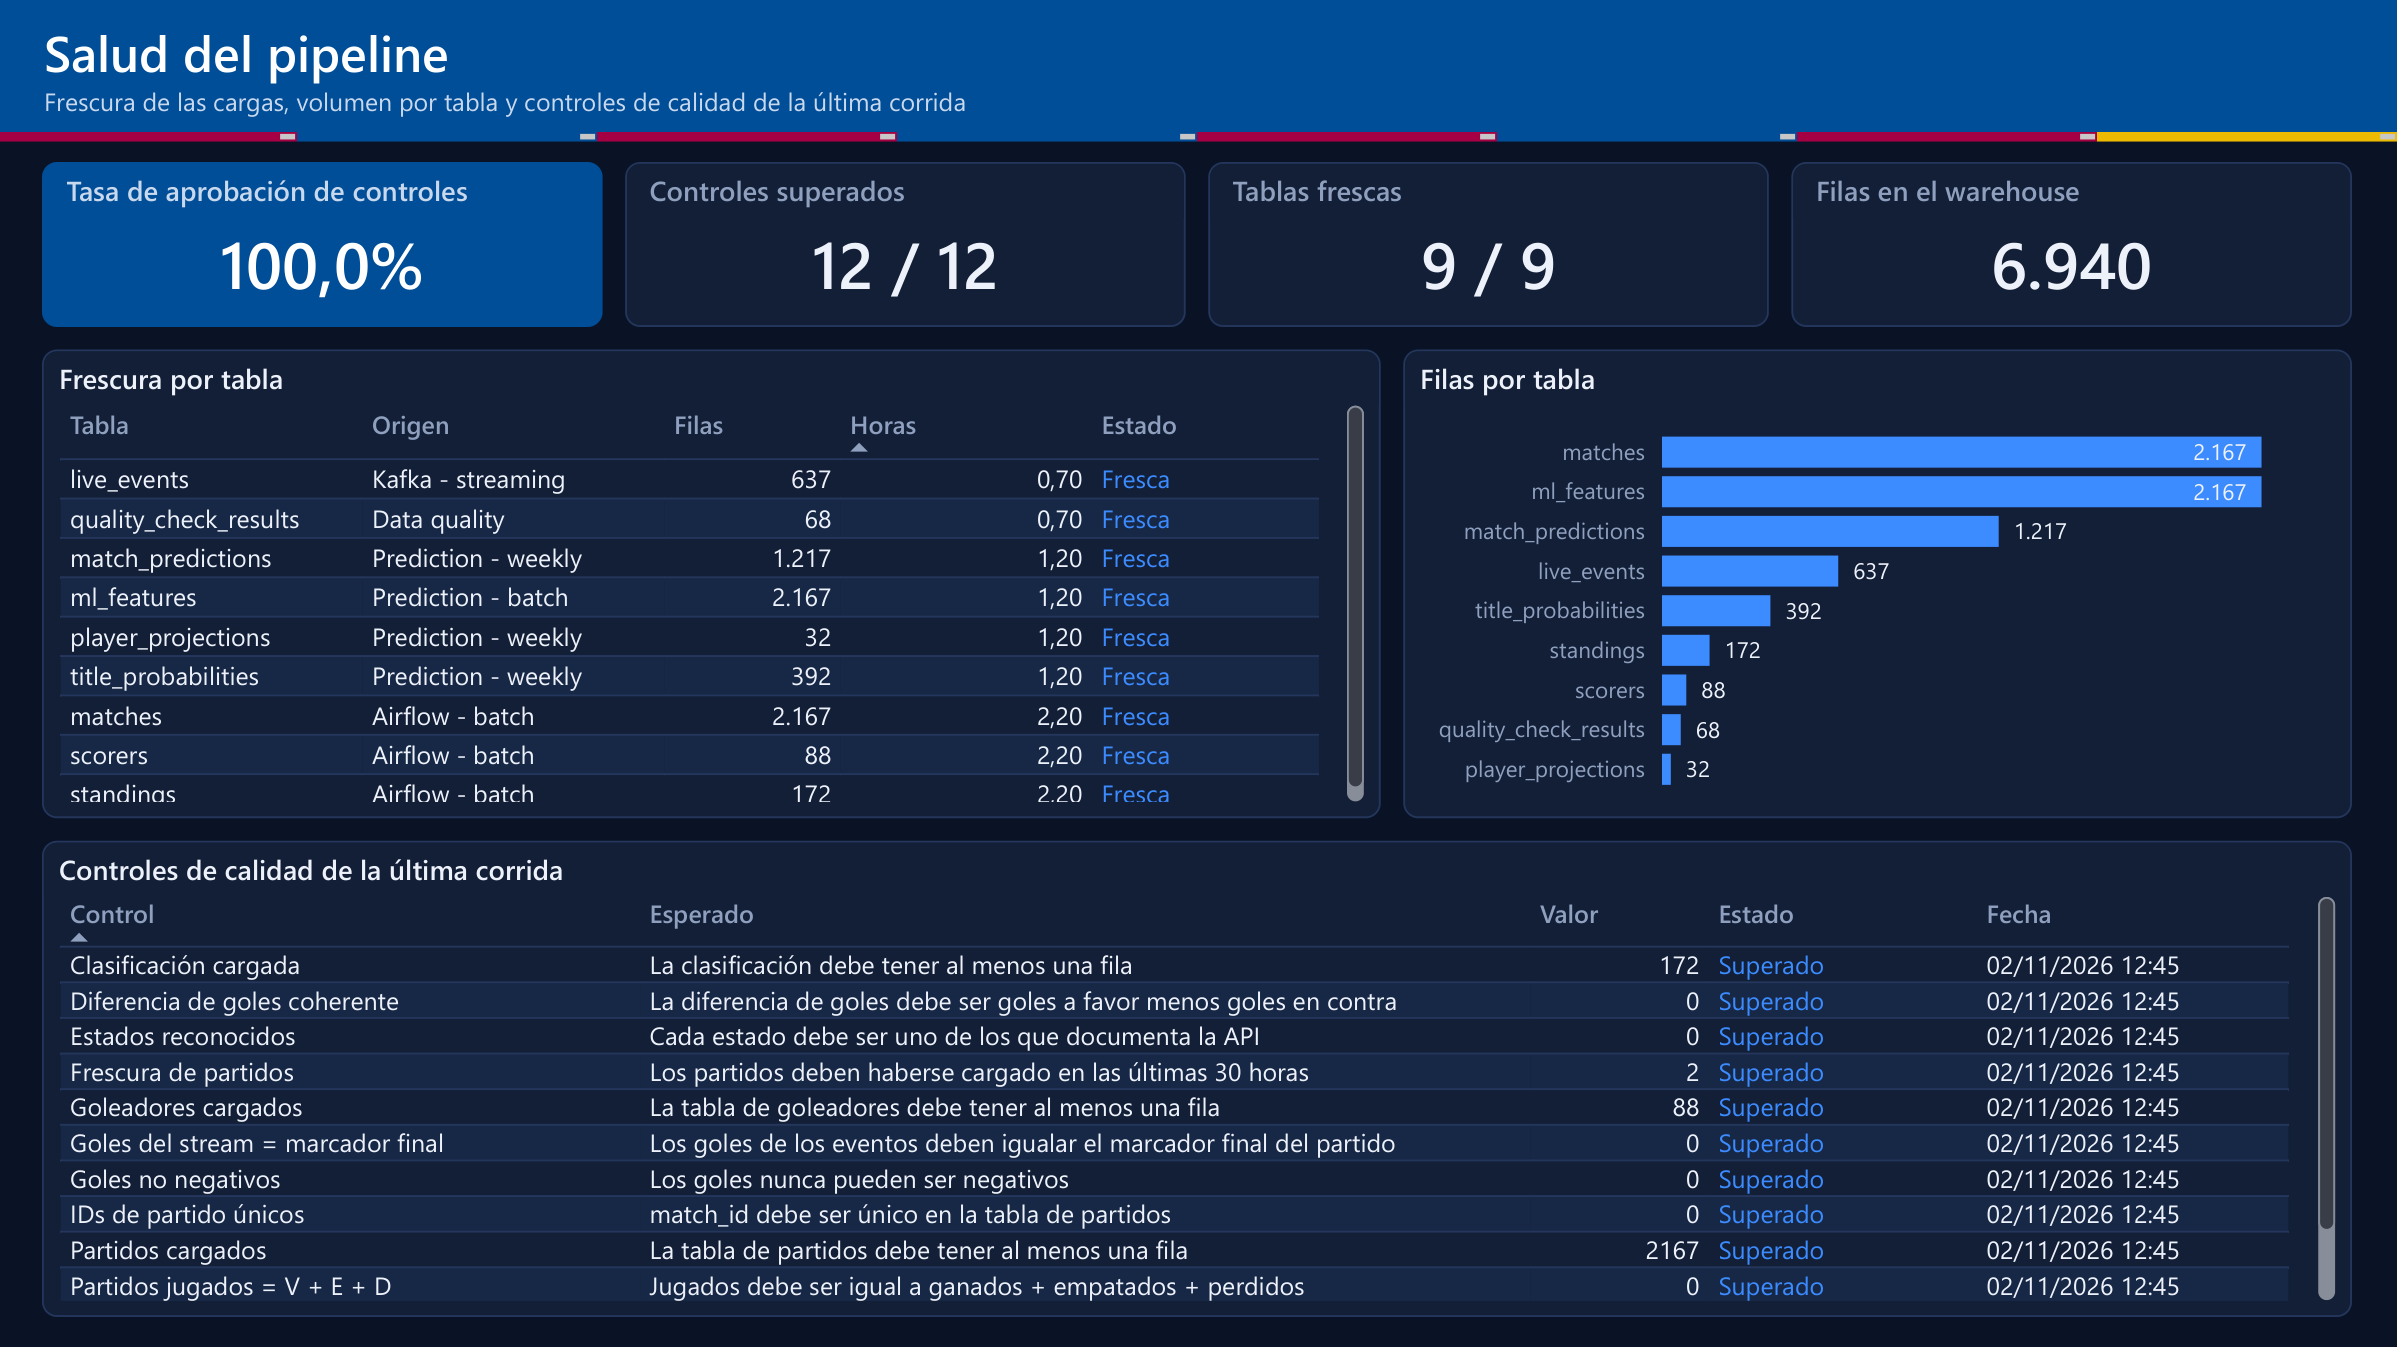

This screenshot's page, from the dashboard's own definition file:
{"tool":"powerbi","page":{"name":"Salud del pipeline","canvas":[1280,720],"ordinal":4},"visuals":[{"type":"textbox","box":[0,0,1280,72],"z":0},{"type":"textbox","box":[0,72,160,5],"z":10},{"type":"textbox","box":[160,72,160,5],"z":20},{"type":"textbox","box":[320,72,160,5],"z":30},{"type":"textbox","box":[480,72,160,5],"z":40},{"type":"textbox","box":[640,72,160,5],"z":50},{"type":"textbox","box":[800,72,160,5],"z":60},{"type":"textbox","box":[960,72,160,5],"z":70},{"type":"textbox","box":[1120,72,160,5],"z":80},{"type":"card","title":"Tasa de aprobación de controles","fields":{"Values":["Medidas.Tasa de aprobación"]},"box":[24,88,299,88],"z":90},{"type":"card","title":"Controles superados","fields":{"Values":["Medidas.Controles texto"]},"box":[335,88,299,88],"z":100},{"type":"card","title":"Tablas frescas","fields":{"Values":["Medidas.Tablas frescas texto"]},"box":[646,88,299,88],"z":110},{"type":"card","title":"Filas en el warehouse","fields":{"Values":["Medidas.Filas en warehouse"]},"box":[957,88,299,88],"z":120},{"type":"tableEx","title":"Frescura por tabla","fields":{"Values":["warehouse vw_pipeline_health.Tabla","warehouse vw_pipeline_health.Origen","warehouse vw_pipeline_health.Filas","warehouse vw_pipeline_health.Horas","warehouse vw_pipeline_health.Estado"]},"box":[24,188,714,250],"z":130},{"type":"clusteredBarChart","title":"Filas por tabla","fields":{"Category":["warehouse vw_pipeline_health.Tabla"],"Y":["Medidas.Filas en warehouse"]},"box":[750,188,506,250],"z":140},{"type":"tableEx","title":"Controles de calidad de la última corrida","fields":{"Values":["warehouse vw_quality_results_latest.Control","warehouse vw_quality_results_latest.Esperado","warehouse vw_quality_results_latest.Valor","warehouse vw_quality_results_latest.Estado","warehouse vw_quality_results_latest.Fecha"]},"box":[24,450,1232,254],"z":150}]}

Visuals, with their boxes in screenshot pixels (x1, y1, x2, y2), scaled from the page's 1280x720 canvas onto the 2400x1348 screenshot:
textbox: <region>0, 0, 2399, 135</region>
textbox: <region>0, 135, 300, 144</region>
textbox: <region>300, 135, 600, 144</region>
textbox: <region>600, 135, 900, 144</region>
textbox: <region>900, 135, 1200, 144</region>
textbox: <region>1200, 135, 1500, 144</region>
textbox: <region>1500, 135, 1800, 144</region>
textbox: <region>1800, 135, 2100, 144</region>
textbox: <region>2100, 135, 2399, 144</region>
"Tasa de aprobación de controles" card: <region>45, 165, 606, 330</region>
"Controles superados" card: <region>628, 165, 1189, 330</region>
"Tablas frescas" card: <region>1211, 165, 1772, 330</region>
"Filas en el warehouse" card: <region>1794, 165, 2355, 330</region>
"Frescura por tabla" tableEx: <region>45, 352, 1384, 820</region>
"Filas por tabla" clusteredBarChart: <region>1406, 352, 2355, 820</region>
"Controles de calidad de la última corrida" tableEx: <region>45, 842, 2355, 1318</region>
